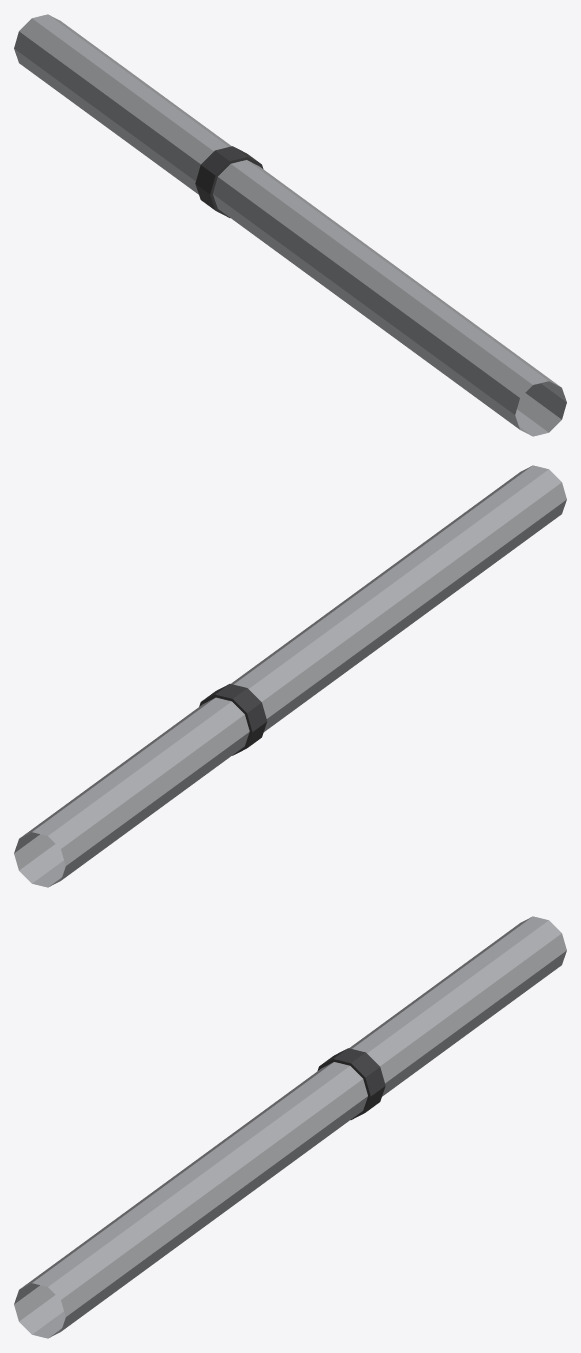
Rendered from SmallPipe02T2.fbx.
3 views of the same model, one above another, from view 1: azimuth 30°, elevation 25°; view 2: azimuth 150°, elevation 25°; view 3: azimuth 330°, elevation 25° (orthographic).
Parts seen in each view (by area): view 1: SmallPipe02T2; view 2: SmallPipe02T2; view 3: SmallPipe02T2.
Part boxes in pixels (x1=…): SmallPipe02T2: x1=14, y1=14, x2=566, y2=436; SmallPipe02T2: x1=14, y1=465, x2=566, y2=887; SmallPipe02T2: x1=14, y1=916, x2=566, y2=1338.
Bounding box in the file's own units: 15.68 × 14.91 × 238.
